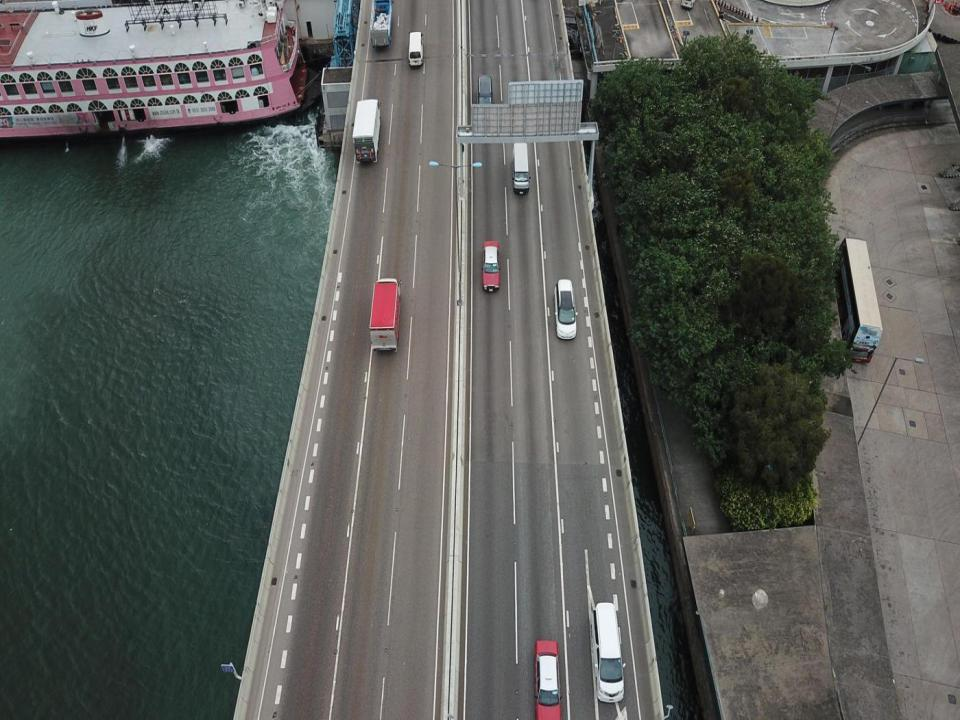bus: (830, 236, 884, 370), (350, 99, 384, 165), (510, 142, 532, 197)
car: (531, 639, 562, 719), (552, 277, 581, 342), (479, 240, 502, 294), (476, 72, 495, 114), (406, 29, 424, 69)
truck: (367, 273, 404, 355), (369, 0, 393, 48)
van: (591, 600, 626, 706)
